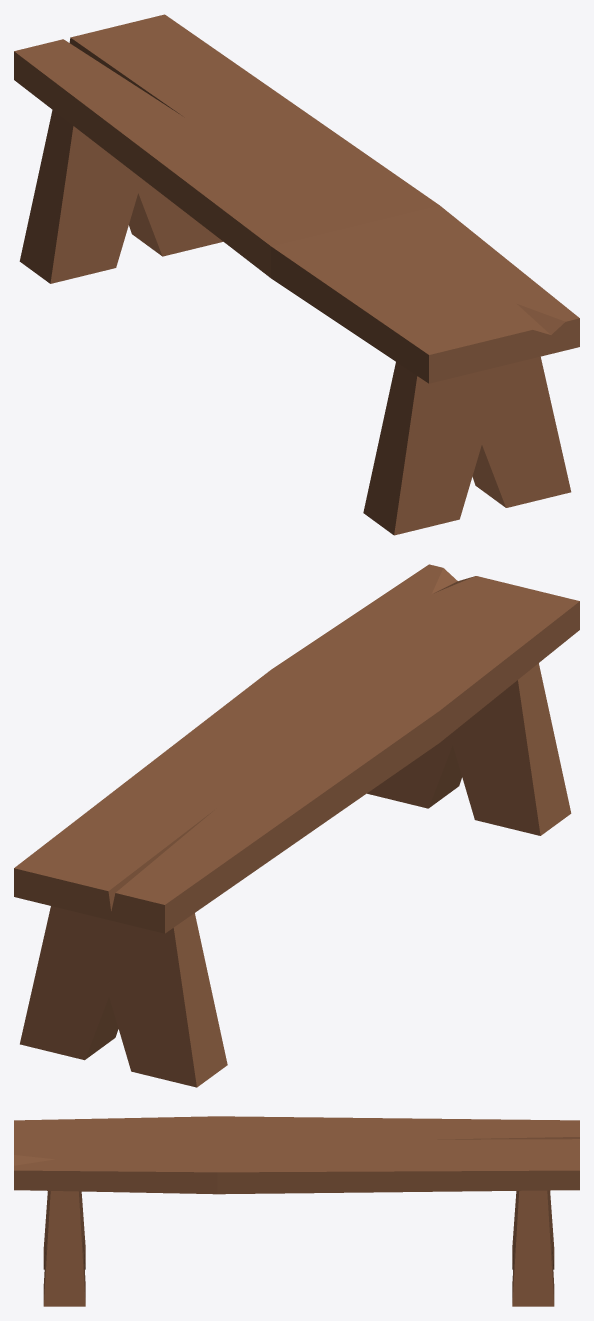
The model's file is bench.fbx.
3 renders of one model, top to bottom at view 1: azimuth 30°, elevation 25°; view 2: azimuth 150°, elevation 25°; view 3: azimuth 270°, elevation 25°, orthographic. The views are drawn at different scales.
Parts seen in each view (by area): view 1: bench; view 2: bench; view 3: bench.
Part boxes in pixels (left/top/right/bottom): bench: left=14, top=14, right=579, bottom=535; bench: left=14, top=564, right=579, bottom=1087; bench: left=14, top=1116, right=579, bottom=1306.
Size of the model in its own units: 38.94 by 40.9 by 158.
Materials: 1 (1 with a texture image).
